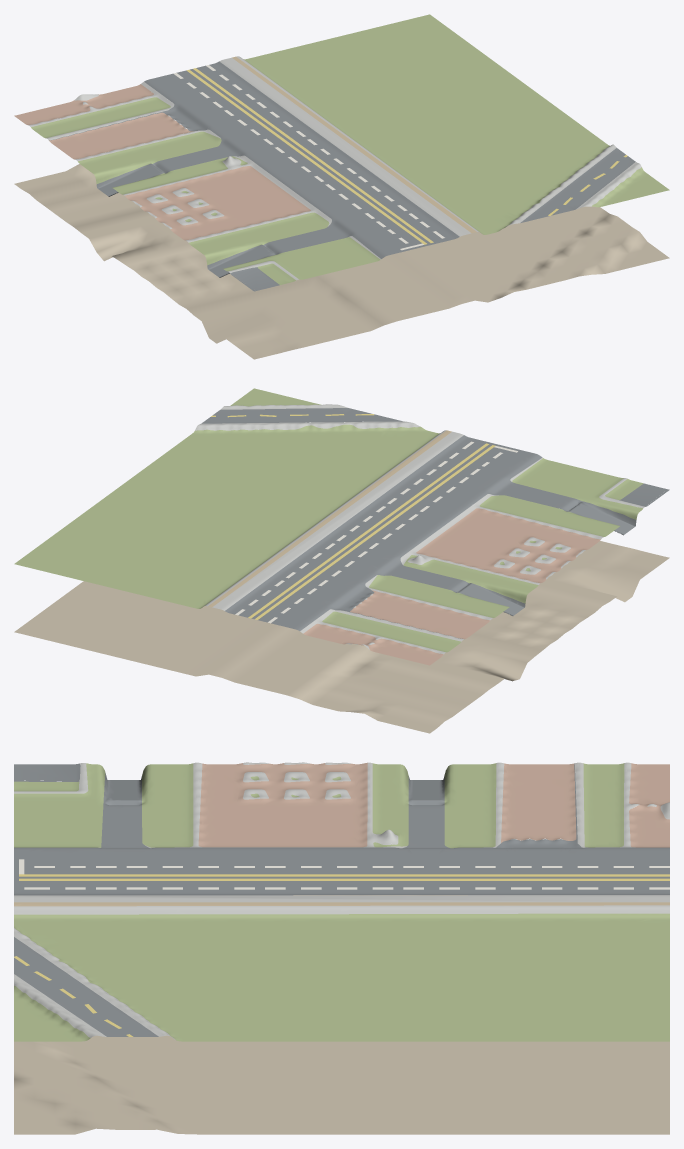
3 renders of one model, top to bottom at view 1: azimuth 30°, elevation 25°; view 2: azimuth 150°, elevation 25°; view 3: azimuth 270°, elevation 25°, orthographic. The views are drawn at different scales.
Visible parts, largest first — view 1: s_-4_-2__grass, s_-4_-2__soil, s_-4_-2__asphalt, s_-4_-2__brick_paving, s_-4_-2__stone_paving, s_-4_-2__yellow_marking, s_-4_-2__timber_deck, s_-4_-2__white_marking; view 2: s_-4_-2__grass, s_-4_-2__soil, s_-4_-2__asphalt, s_-4_-2__brick_paving, s_-4_-2__stone_paving, s_-4_-2__yellow_marking, s_-4_-2__timber_deck, s_-4_-2__white_marking; view 3: s_-4_-2__grass, s_-4_-2__soil, s_-4_-2__asphalt, s_-4_-2__brick_paving, s_-4_-2__stone_paving, s_-4_-2__yellow_marking, s_-4_-2__timber_deck, s_-4_-2__white_marking.
Part boxes in pixels (x1,y1,x2,y2): s_-4_-2__grass: [31, 14, 669, 284]; s_-4_-2__soil: [14, 164, 669, 359]; s_-4_-2__asphalt: [49, 61, 635, 291]; s_-4_-2__brick_paving: [14, 84, 310, 240]; s_-4_-2__stone_paving: [28, 56, 641, 280]; s_-4_-2__yellow_marking: [186, 68, 627, 244]; s_-4_-2__timber_deck: [103, 56, 476, 233]; s_-4_-2__white_marking: [173, 65, 444, 250]; s_-4_-2__grass: [14, 388, 643, 652]; s_-4_-2__soil: [14, 541, 669, 733]; s_-4_-2__asphalt: [201, 408, 669, 638]; s_-4_-2__brick_paving: [303, 508, 600, 665]; s_-4_-2__stone_paving: [195, 404, 645, 654]; s_-4_-2__yellow_marking: [211, 414, 495, 619]; s_-4_-2__timber_deck: [208, 430, 451, 643]; s_-4_-2__white_marking: [235, 441, 517, 623]; s_-4_-2__grass: [14, 763, 669, 1041]; s_-4_-2__soil: [14, 895, 669, 1134]; s_-4_-2__asphalt: [14, 763, 669, 1036]; s_-4_-2__brick_paving: [198, 762, 669, 847]; s_-4_-2__stone_paving: [14, 762, 669, 1039]; s_-4_-2__yellow_marking: [14, 874, 669, 1036]; s_-4_-2__timber_deck: [14, 902, 669, 906]; s_-4_-2__white_marking: [19, 859, 669, 889].
Bounding box in the file's own units: 128 × 25.58 × 128.
